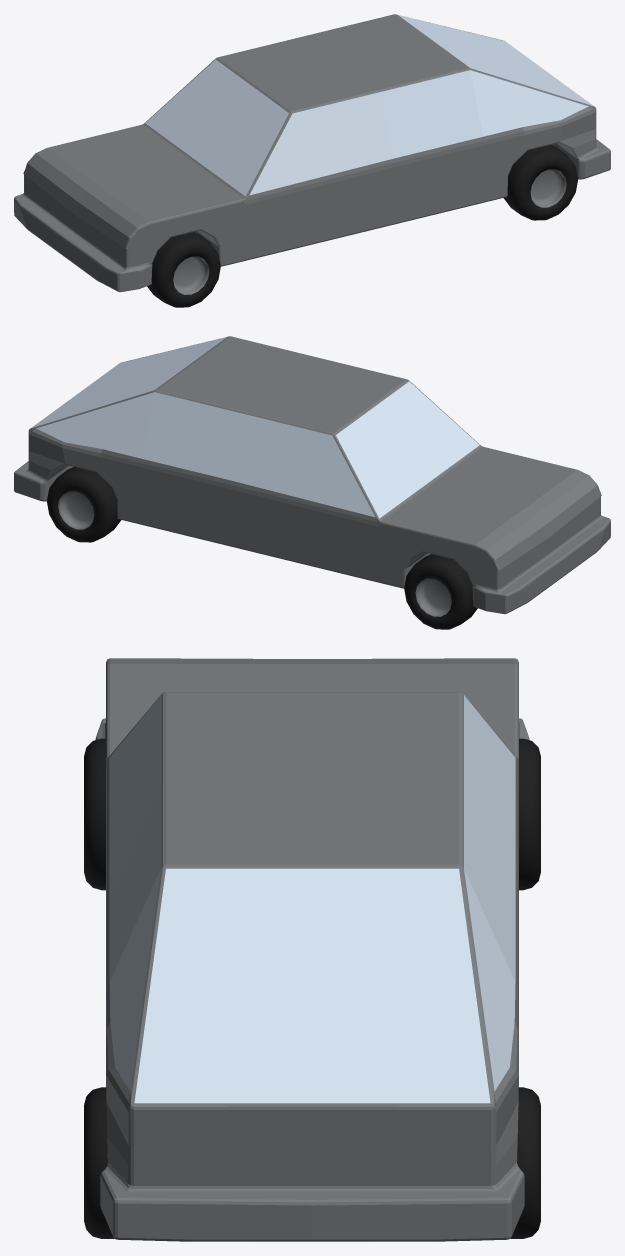
Rendered from car.fbx.
3 renders of one model, top to bottom at view 1: azimuth 30°, elevation 25°; view 2: azimuth 150°, elevation 25°; view 3: azimuth 270°, elevation 25°, orthographic. The views are drawn at different scales.
Visible parts, largest first — view 1: Cylinder.005; view 2: Cylinder.005; view 3: Cylinder.005.
Part boxes in pixels (x1,y1,x2,y2): Cylinder.005: [14, 14, 610, 307]; Cylinder.005: [14, 336, 610, 629]; Cylinder.005: [84, 658, 540, 1241].
Size of the model in its own units: 843 by 248 by 332.
